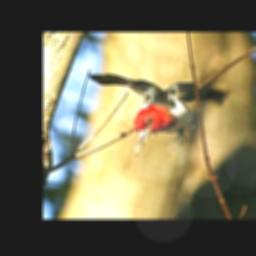Woodpecker: (81, 66, 228, 158)
